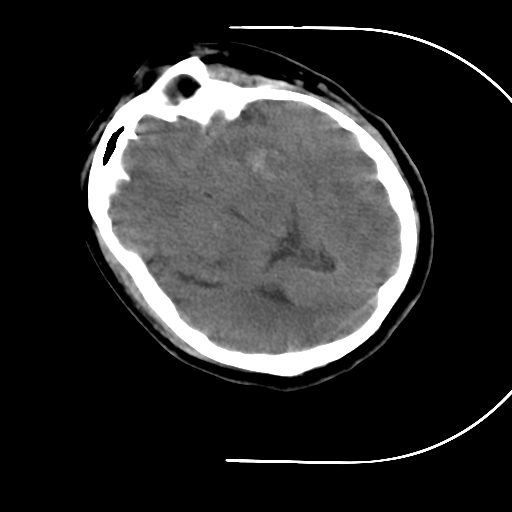a: (216, 125, 295, 192)
